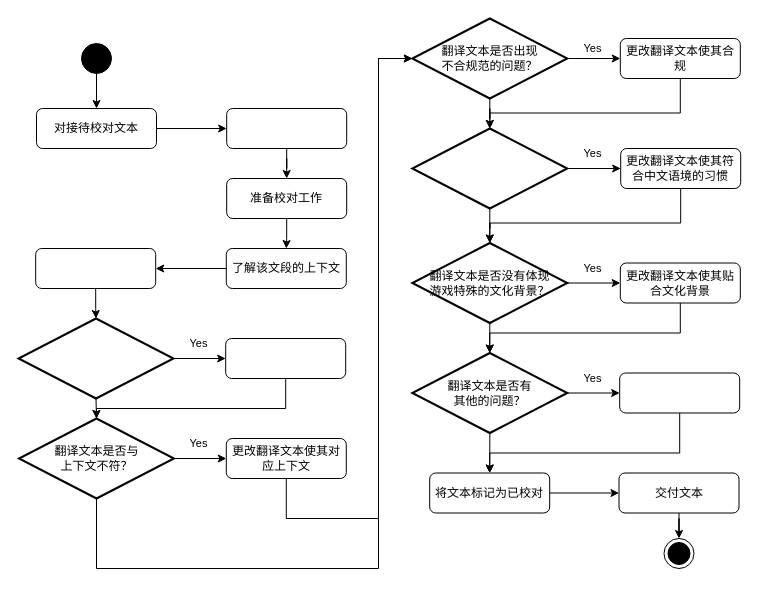
The diagram is 758 pixels wide and 594 high, and some of its shapes have lost their labels. Each missing label, with the centre of its shape:
"对照原文与译文，检查译文翻译" belongs at pixel 95 268.
"改正翻译文本的翻译错误" belongs at pixel 285 358.
"翻译文本是否出现 翻译错误？" belongs at pixel 95 358.
"翻译文本是否符合 中文语境下的习惯？" belongs at pixel 489 168.
"解决问题" belongs at pixel 679 392.
"阅读翻译规范与文化报告" belongs at pixel 286 128.
